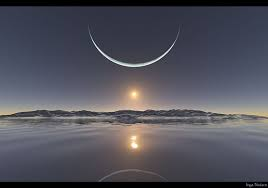moon: (87, 23, 182, 67)
